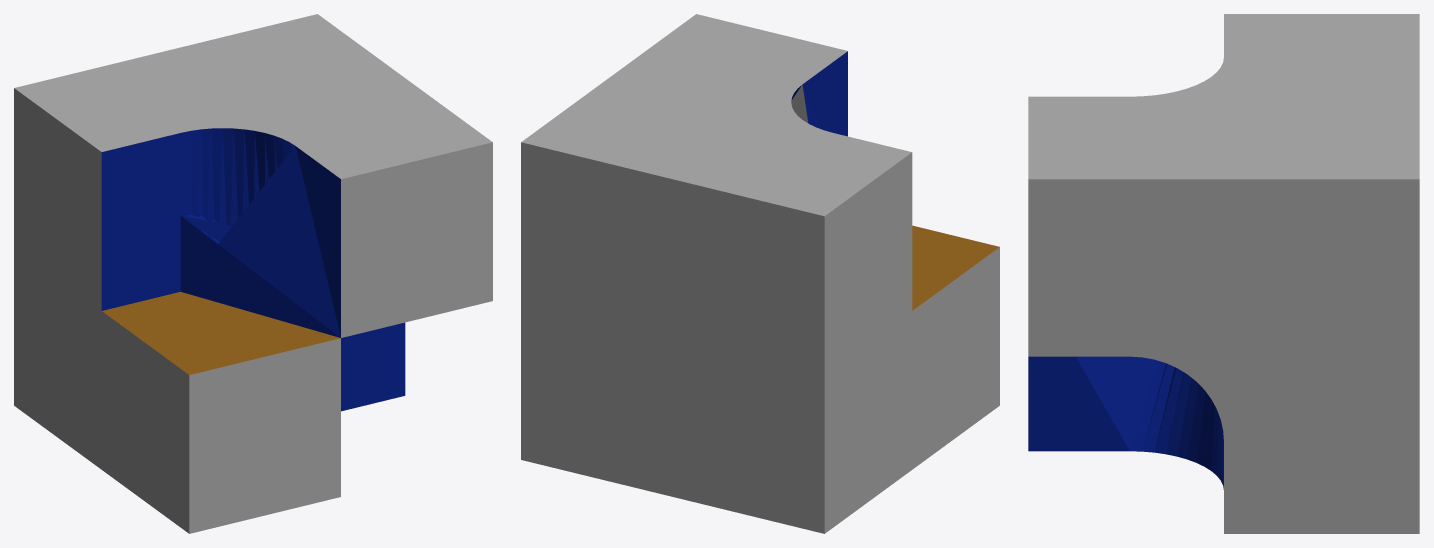
Rendered from case_123.fbx.
3 renders of one model, left to right at view 1: azimuth 30°, elevation 25°; view 2: azimuth 150°, elevation 25°; view 3: azimuth 270°, elevation 25°, orthographic. The views are drawn at different scales.
Visible parts, largest first — view 1: case_123; view 2: case_123; view 3: case_123.
Boxes of the visible parts, x1,y1,x2,y2 form: case_123: (14, 14, 492, 533); case_123: (521, 14, 999, 533); case_123: (1028, 14, 1419, 533).
Size of the model in its own units: 1 by 1 by 1.
